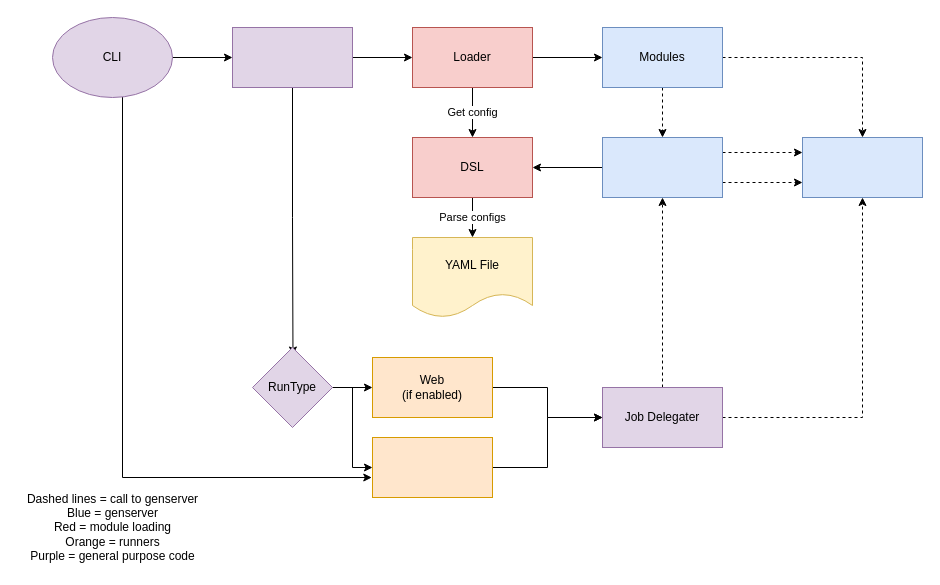
This 940x585 diagram has some shape labels left out. Here are the shapes that lost their labels. From the top down, the centre of each, then its label:
the point at 292,57: Application
the point at 662,167: Jobs Module
the point at 862,167: Non Specific Module
the point at 432,467: Local Runner
